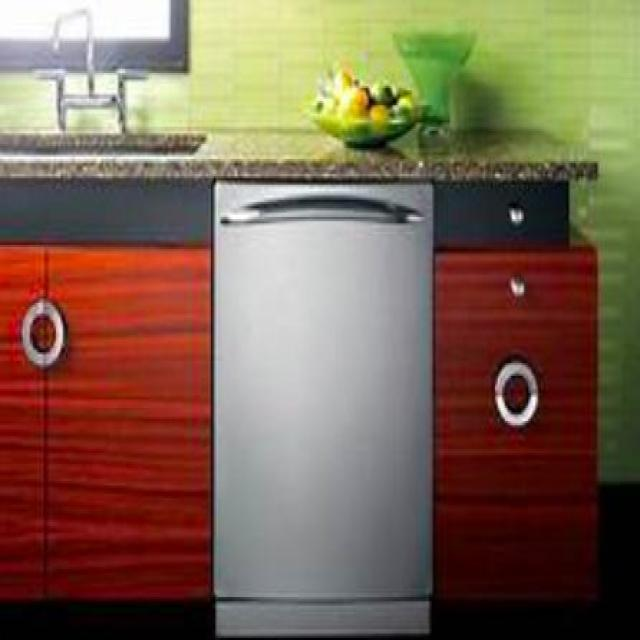dishwasher: (211, 172, 432, 638)
